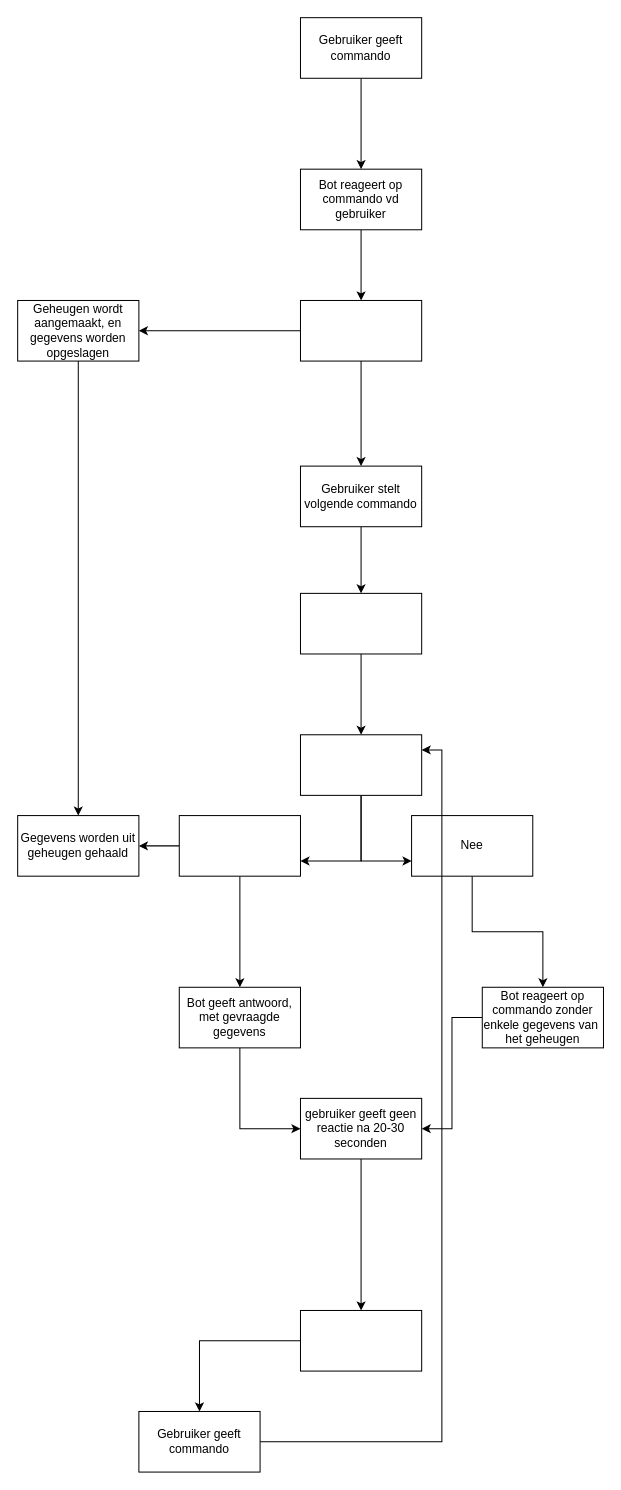
The diagram is 621 pixels wide and 1490 high, and some of its shapes have lost their labels. Here are the shapes that lost their labels. From the top down, the centre of each, then its label:
pixel 360 330: Bot slaat gegevens op van de gebruiker in het "Geheugen"
pixel 360 623: Commando wordt uitgelezen
pixel 360 764: Moet er iets uit het geheugen?
pixel 239 845: Ja?
pixel 360 1340: Bot gaat op sleep mode
